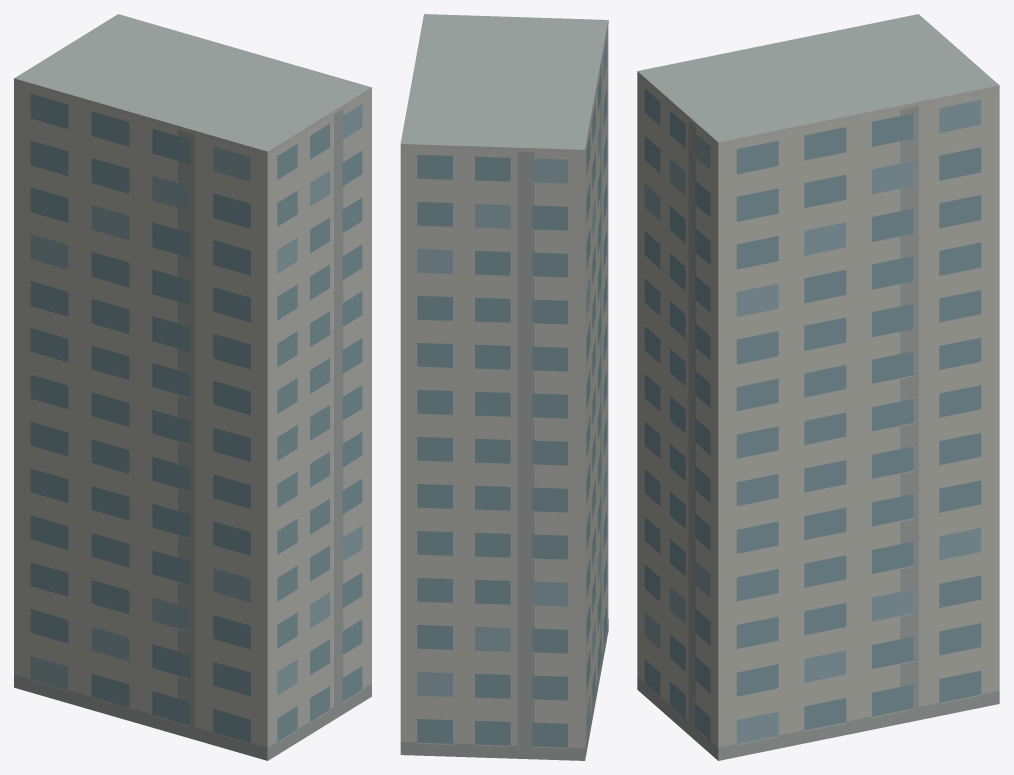
File: residential-731dba03-b993-406f-b8a2-8e82a82e2443.glb
The picture shows the model from 3 angles, left to right: view 1: azimuth 30°, elevation 25°; view 2: azimuth 150°, elevation 25°; view 3: azimuth 270°, elevation 25°; orthographic projection.
Visible parts, largest first — view 1: residential-731dba03-b993-406f-b8a2-8e82a82e2443.tmp; view 2: residential-731dba03-b993-406f-b8a2-8e82a82e2443.tmp; view 3: residential-731dba03-b993-406f-b8a2-8e82a82e2443.tmp.
Boxes of the visible parts, bbox=[...] form: residential-731dba03-b993-406f-b8a2-8e82a82e2443.tmp: bbox=[14, 14, 371, 760]; residential-731dba03-b993-406f-b8a2-8e82a82e2443.tmp: bbox=[400, 14, 608, 760]; residential-731dba03-b993-406f-b8a2-8e82a82e2443.tmp: bbox=[637, 14, 999, 760].
Size of the model in its own units: 17.37 by 39 by 20.72.
